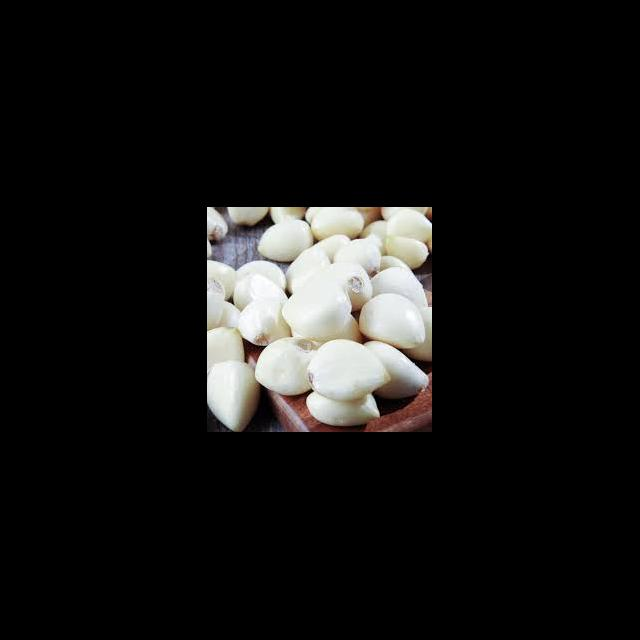garlic: (237, 260, 428, 410)
